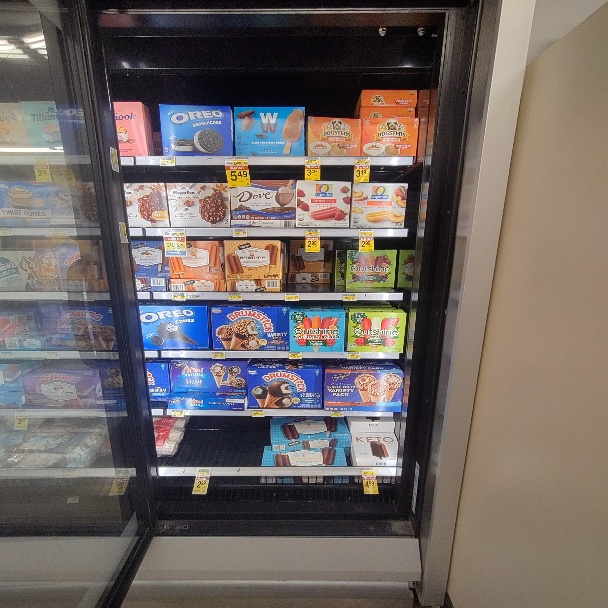All PRICE TAGS: (225, 158, 248, 166), (162, 229, 185, 237), (44, 229, 66, 237), (304, 156, 320, 165), (33, 157, 48, 166), (355, 157, 369, 166), (361, 469, 376, 477), (288, 351, 303, 359), (342, 293, 357, 301), (305, 229, 320, 237), (160, 157, 175, 165), (197, 468, 211, 476), (285, 293, 299, 301), (228, 293, 243, 300), (358, 229, 373, 236), (232, 230, 247, 237), (172, 292, 185, 300), (0, 351, 13, 359), (251, 409, 265, 416), (211, 352, 225, 359), (391, 228, 403, 236), (171, 410, 184, 417), (347, 352, 360, 359), (47, 351, 58, 358), (15, 411, 26, 418), (330, 412, 345, 417)
